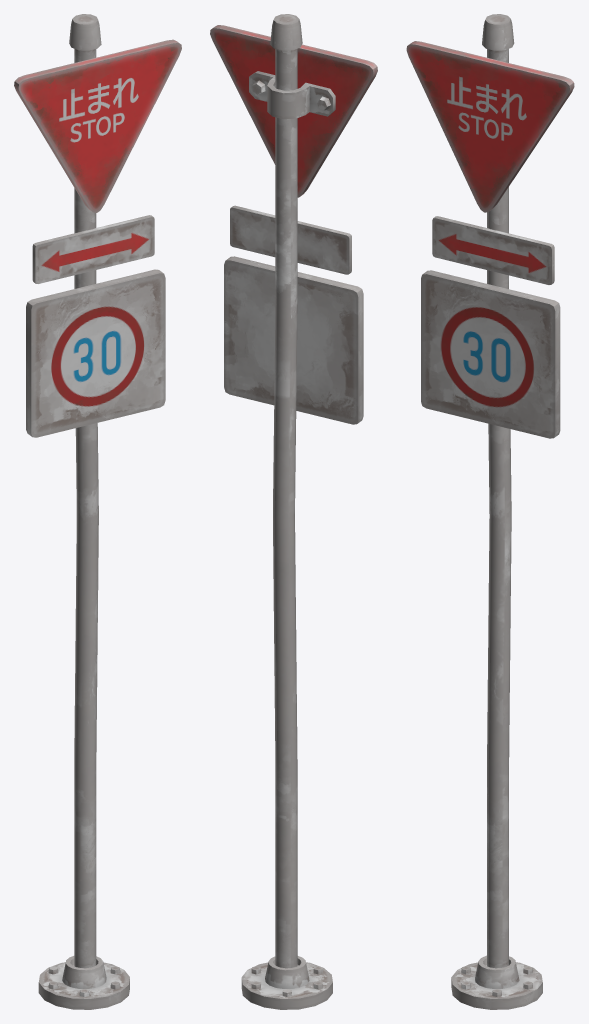
The model's file is SM_roadsign_07.fbx.
3 renders of one model, left to right at view 1: azimuth 30°, elevation 25°; view 2: azimuth 150°, elevation 25°; view 3: azimuth 330°, elevation 25°, orthographic.
Parts seen in each view (by area): view 1: Object32306; view 2: Object32306; view 3: Object32306.
Part boxes in pixels (left/top/right/bottom): Object32306: left=14, top=14, right=181, bottom=1009; Object32306: left=210, top=14, right=377, bottom=1009; Object32306: left=406, top=14, right=574, bottom=1009.
Size of the model in its own units: 23.33 by 132 by 11.39.
